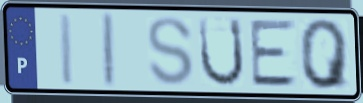E: (248, 18, 301, 89)
I: (57, 11, 77, 88), (100, 10, 119, 90)
Q: (297, 17, 352, 93)
S: (144, 14, 196, 88)
U: (197, 15, 247, 89)
